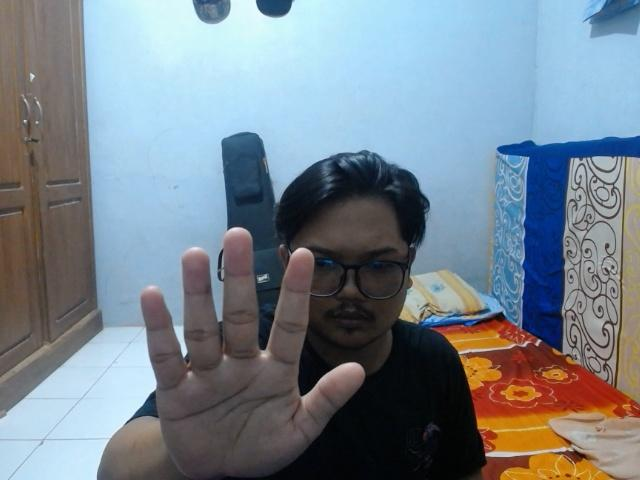Release: (133, 221, 372, 480)
